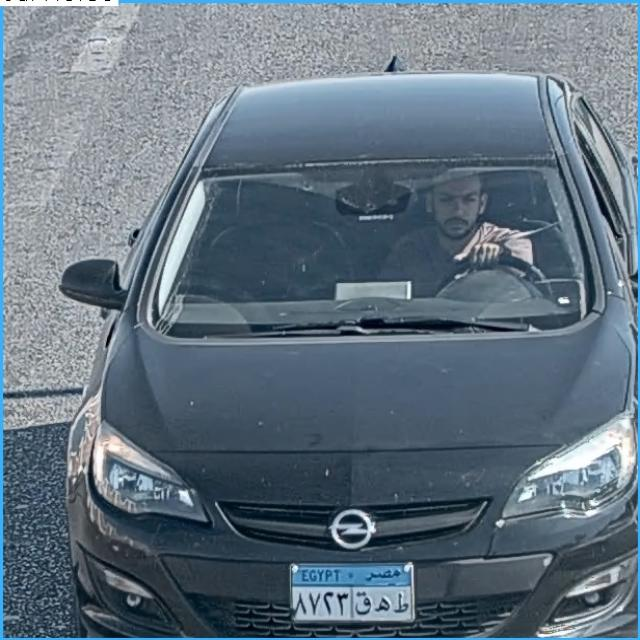windshield: (150, 170, 590, 338)
